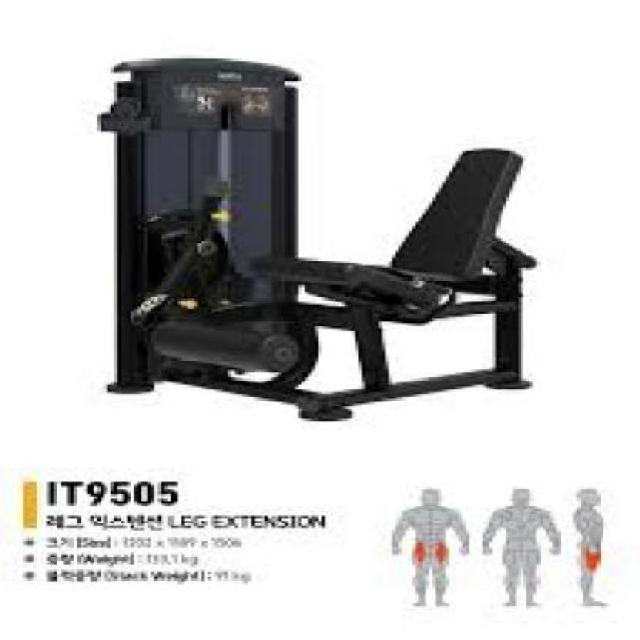leg extension: (78, 49, 550, 428)
